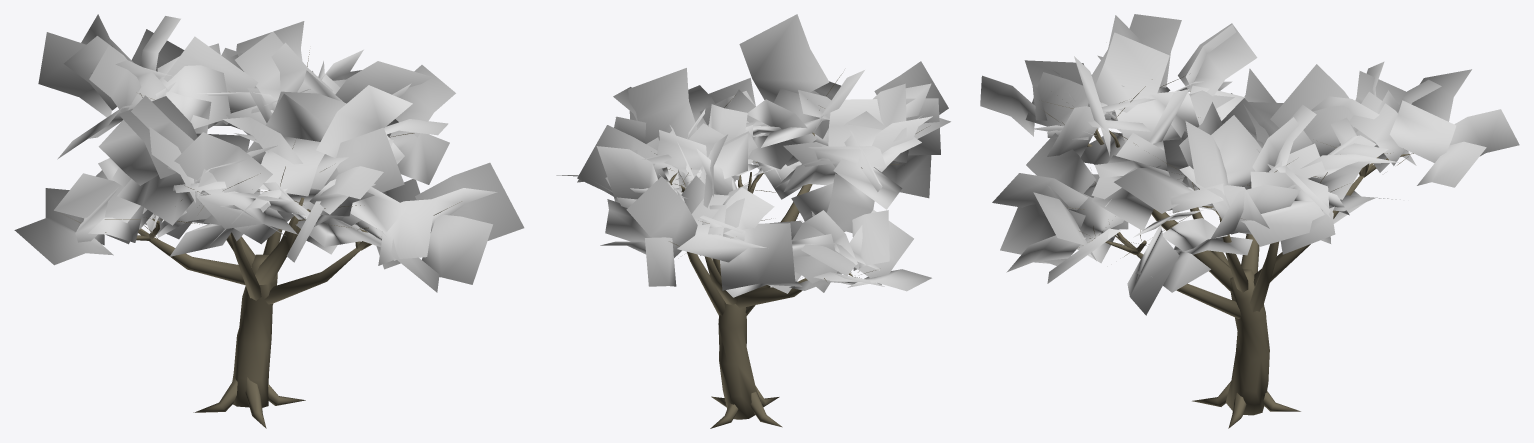
File: V7_Oleastre_0_Niveau2.fbx
The picture shows the model from 3 angles, left to right: view 1: azimuth 30°, elevation 25°; view 2: azimuth 150°, elevation 25°; view 3: azimuth 270°, elevation 25°; orthographic projection. The views are drawn at different scales.
Visible parts, largest first — view 1: V7_Oleastre_0_Detail2; view 2: V7_Oleastre_0_Detail2; view 3: V7_Oleastre_0_Detail2.
Boxes of the visible parts, x1,y1,x2,y2 form: V7_Oleastre_0_Detail2: (14,14,524,428); V7_Oleastre_0_Detail2: (556,14,950,428); V7_Oleastre_0_Detail2: (980,14,1519,428).
Size of the model in its own units: 466 by 444 by 592.
